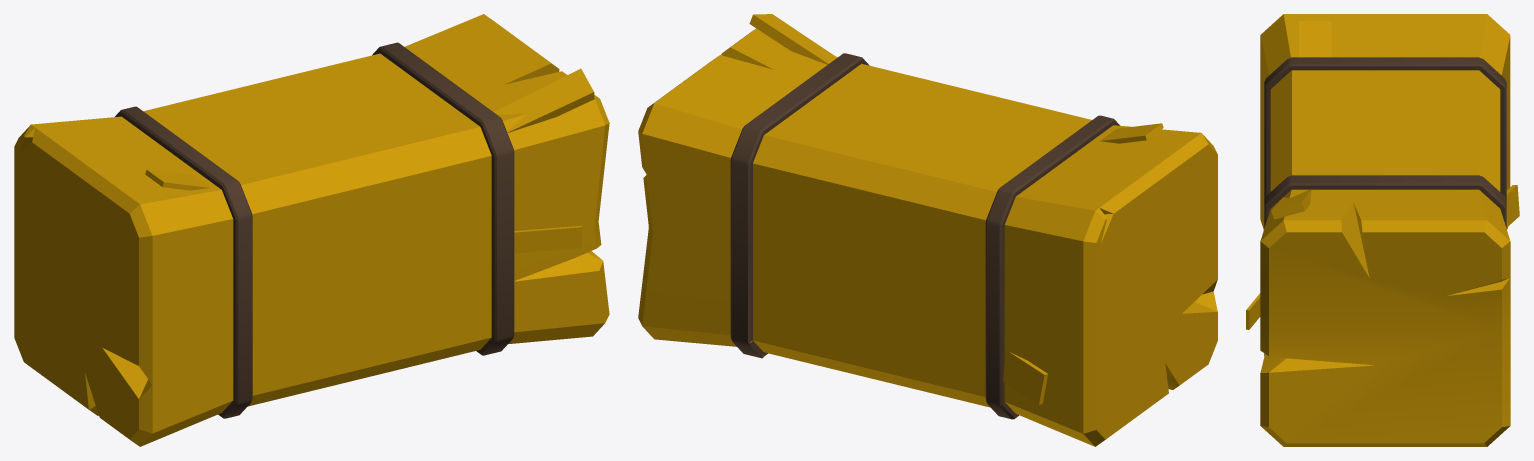
File: not so perfect hay bale.fbx
The picture shows the model from 3 angles, left to right: view 1: azimuth 30°, elevation 25°; view 2: azimuth 150°, elevation 25°; view 3: azimuth 270°, elevation 25°; orthographic projection. The views are drawn at different scales.
Visible parts, largest first — view 1: Cube, Cube.004, Cube.002; view 2: Cube, Cube.003, Cube.002; view 3: Cube, Cube.002, Cube.003, Cube.004.
Part boxes in pixels (x1=…): Cube: x1=14, y1=14, x2=609, y2=446; Cube.004: x1=514, y1=225, x2=581, y2=253; Cube.002: x1=145, y1=169, x2=210, y2=190; Cube: x1=638, y1=14, x2=1217, y2=446; Cube.003: x1=1003, y1=351, x2=1048, y2=404; Cube.002: x1=1100, y1=123, x2=1163, y2=143; Cube: x1=1260, y1=14, x2=1510, y2=446; Cube.002: x1=1299, y1=21, x2=1331, y2=57; Cube.003: x1=1506, y1=185, x2=1519, y2=227; Cube.004: x1=1246, y1=293, x2=1260, y2=329.
Size of the model in its own units: 4 by 2.16 by 2.12.
